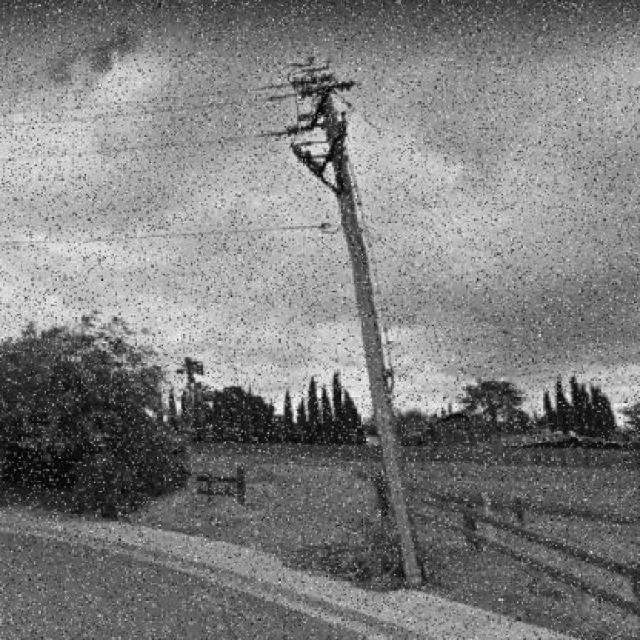crossarm: (289, 68, 352, 195)
pole: (319, 90, 422, 589)
